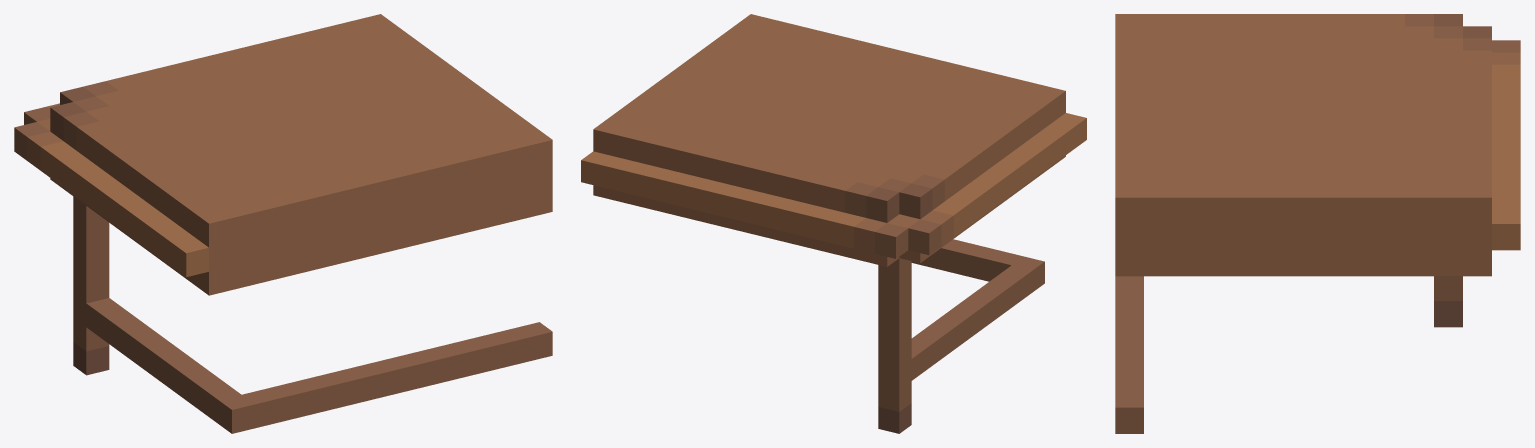
Rendered from Interior_Furniture-37.obj.
The picture shows the model from 3 angles, left to right: view 1: azimuth 30°, elevation 25°; view 2: azimuth 150°, elevation 25°; view 3: azimuth 270°, elevation 25°; orthographic projection. The views are drawn at different scales.
Size of the model in its own units: 1.6 by 1.1 by 1.4.
Materials: 1 (1 with a texture image).
